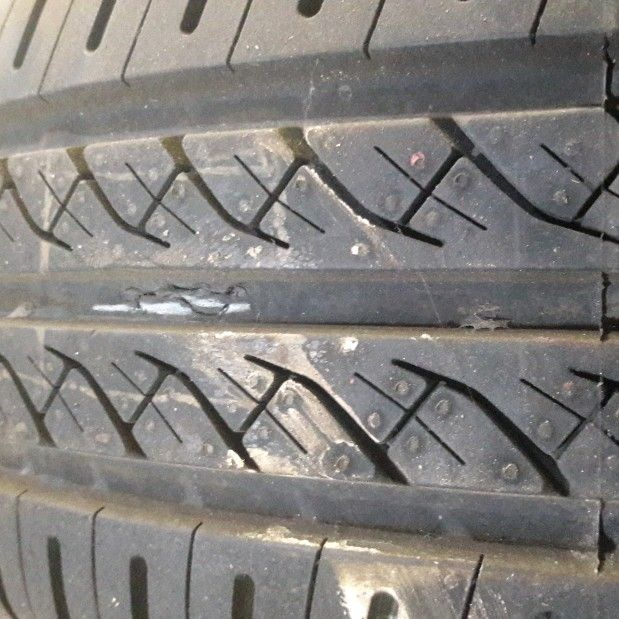tr: (120, 276, 254, 321)
